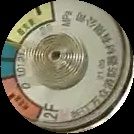green: (1, 40, 23, 78)
red: (1, 77, 43, 122)
yellow: (8, 1, 57, 46)
